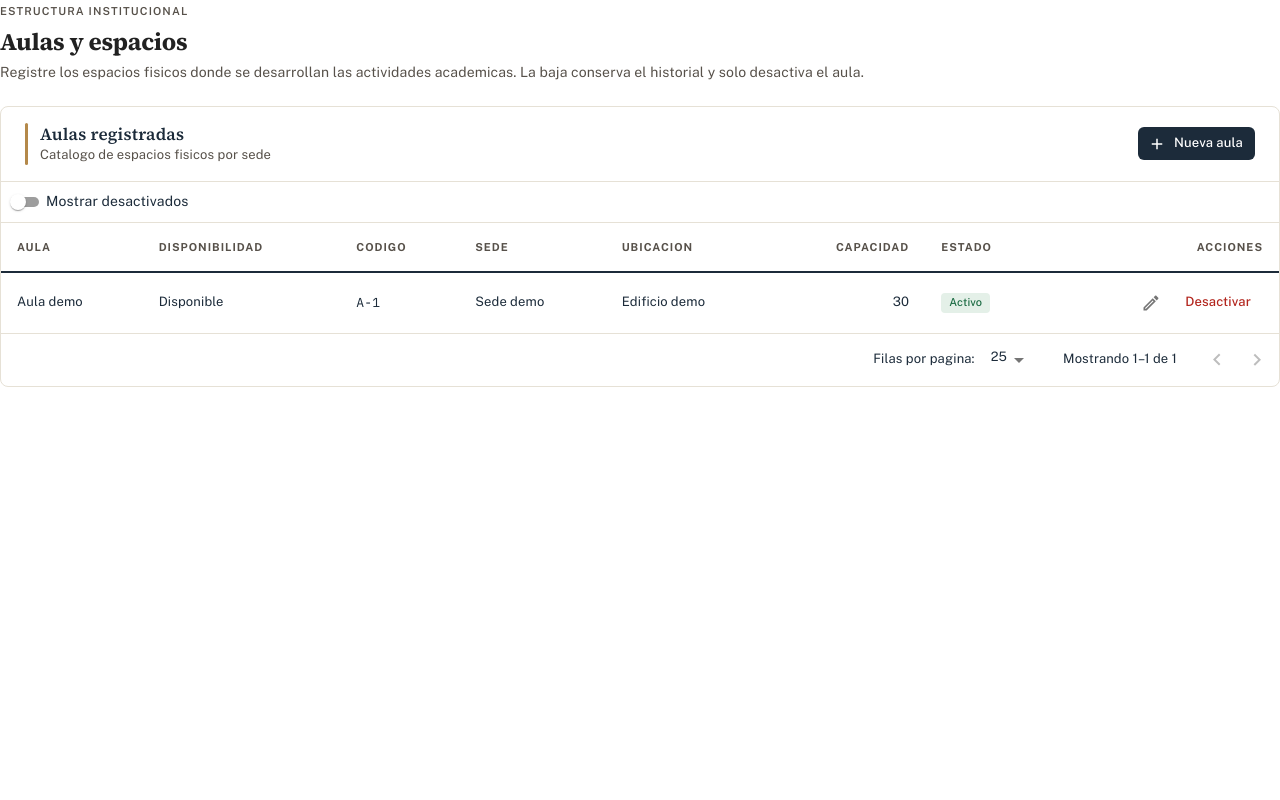
Test: cambia disponibilidad, explica la conservacion y muestra el estado guardado
The image size is (1280, 800).
Expected: the text "Disponible" is shown, [143,272,340,333]
Click the button named "Editar" at (1151, 303), box [1133,285,1169,321]
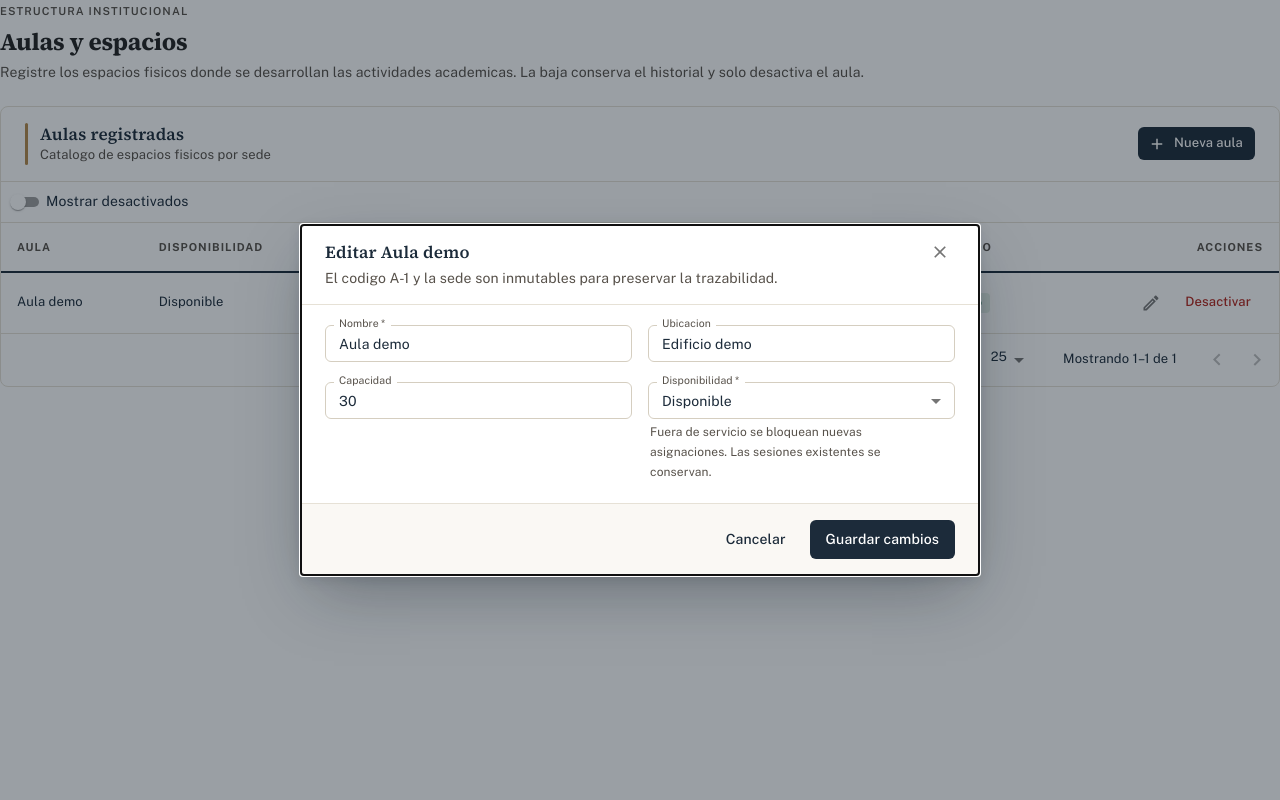
Result: the text "Las sesiones existentes se conservan" is shown at [650,426,880,479]
Click the dropdown named "Disponibilidad" at (697, 401), box [662,393,732,409]
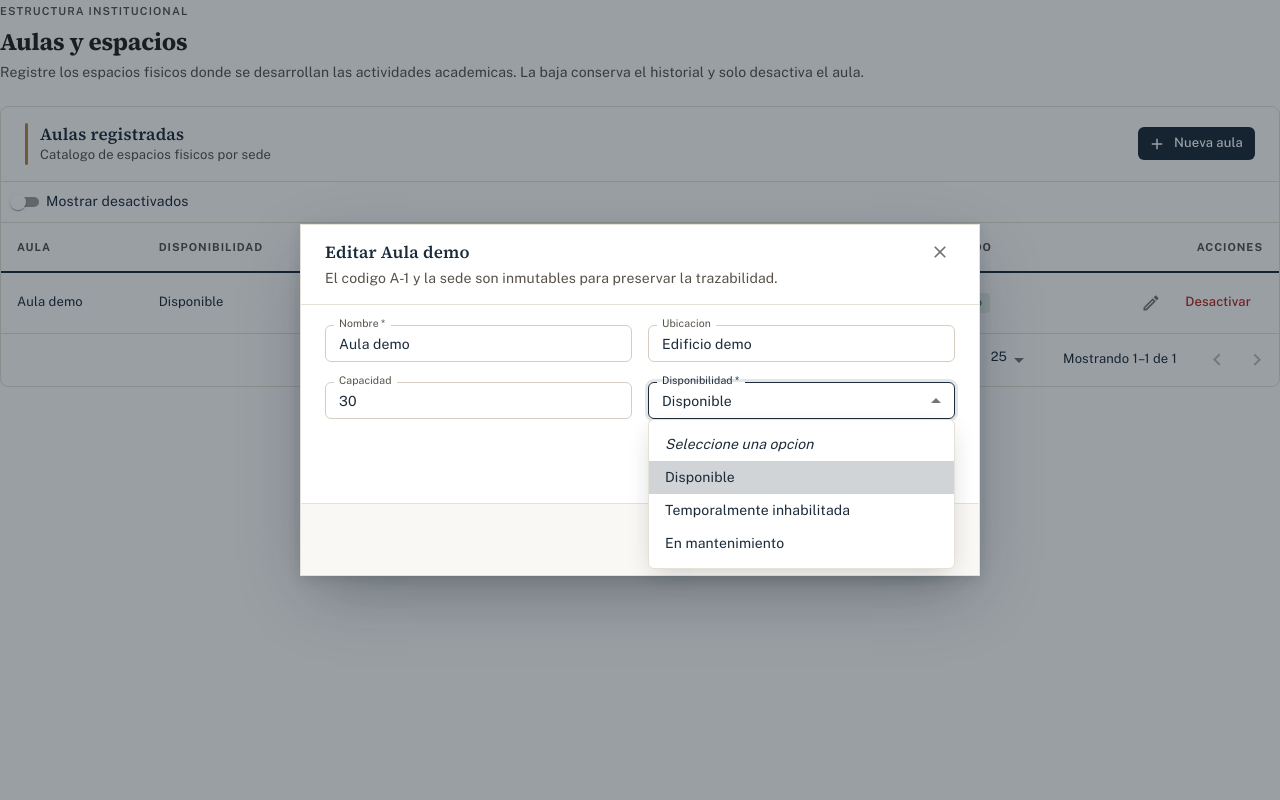
Click the option "En mantenimiento" at (725, 543), box [665,535,784,551]
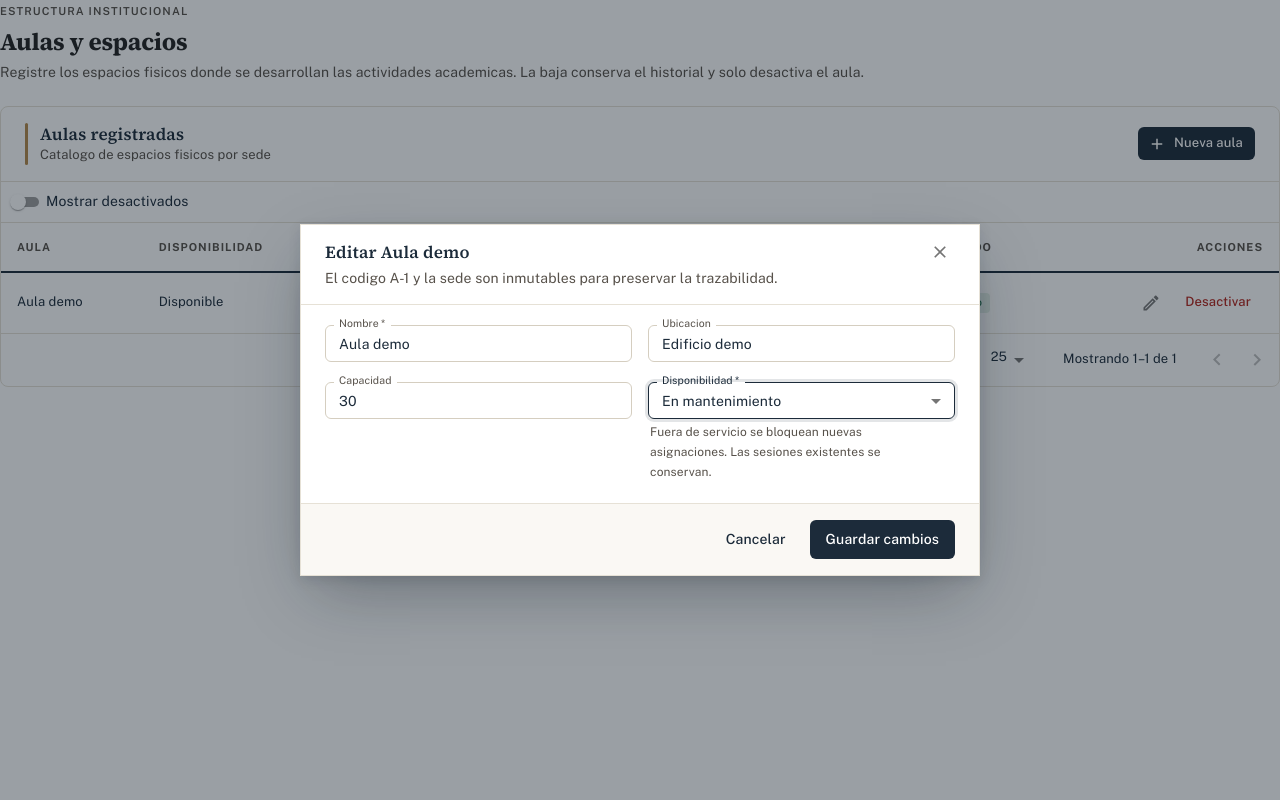
Click the button "Guardar cambios" at (882, 539), box [810,520,955,559]
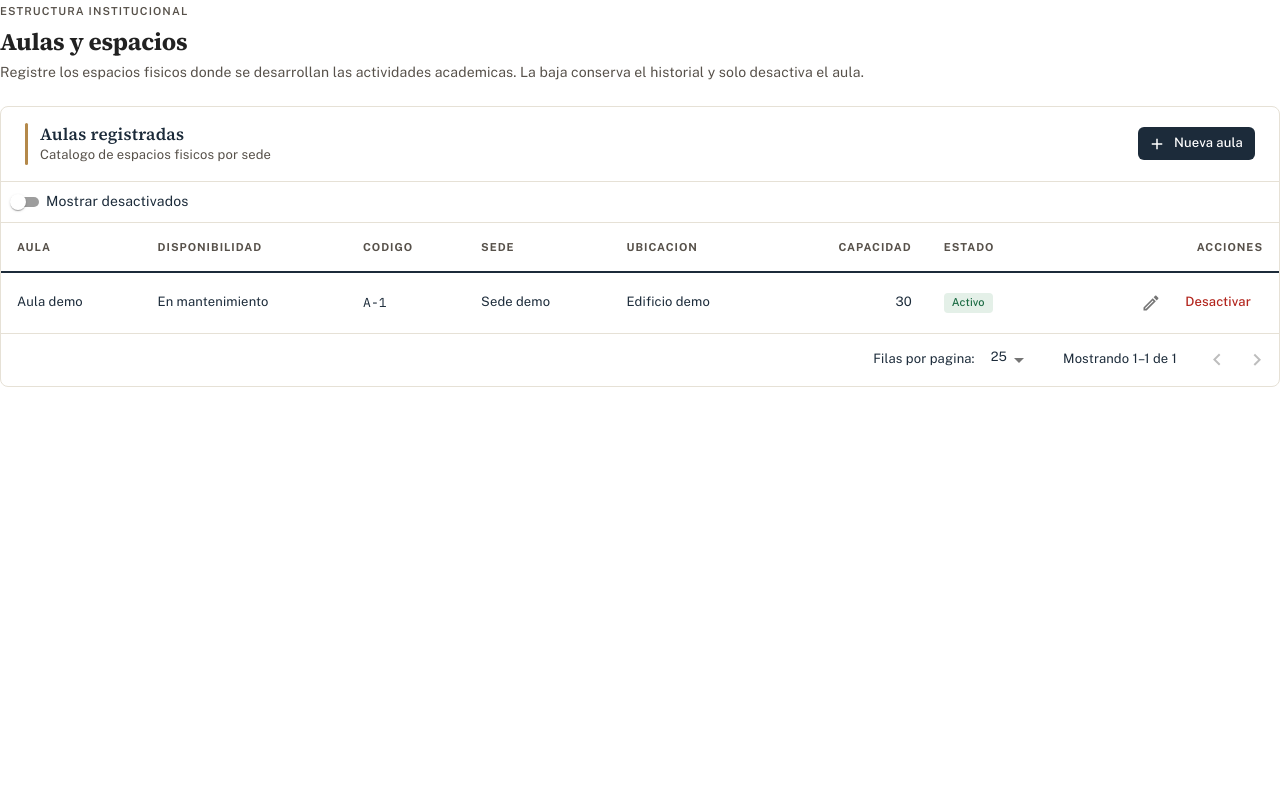
Result: the text "En mantenimiento" is shown at [142,272,347,333]
